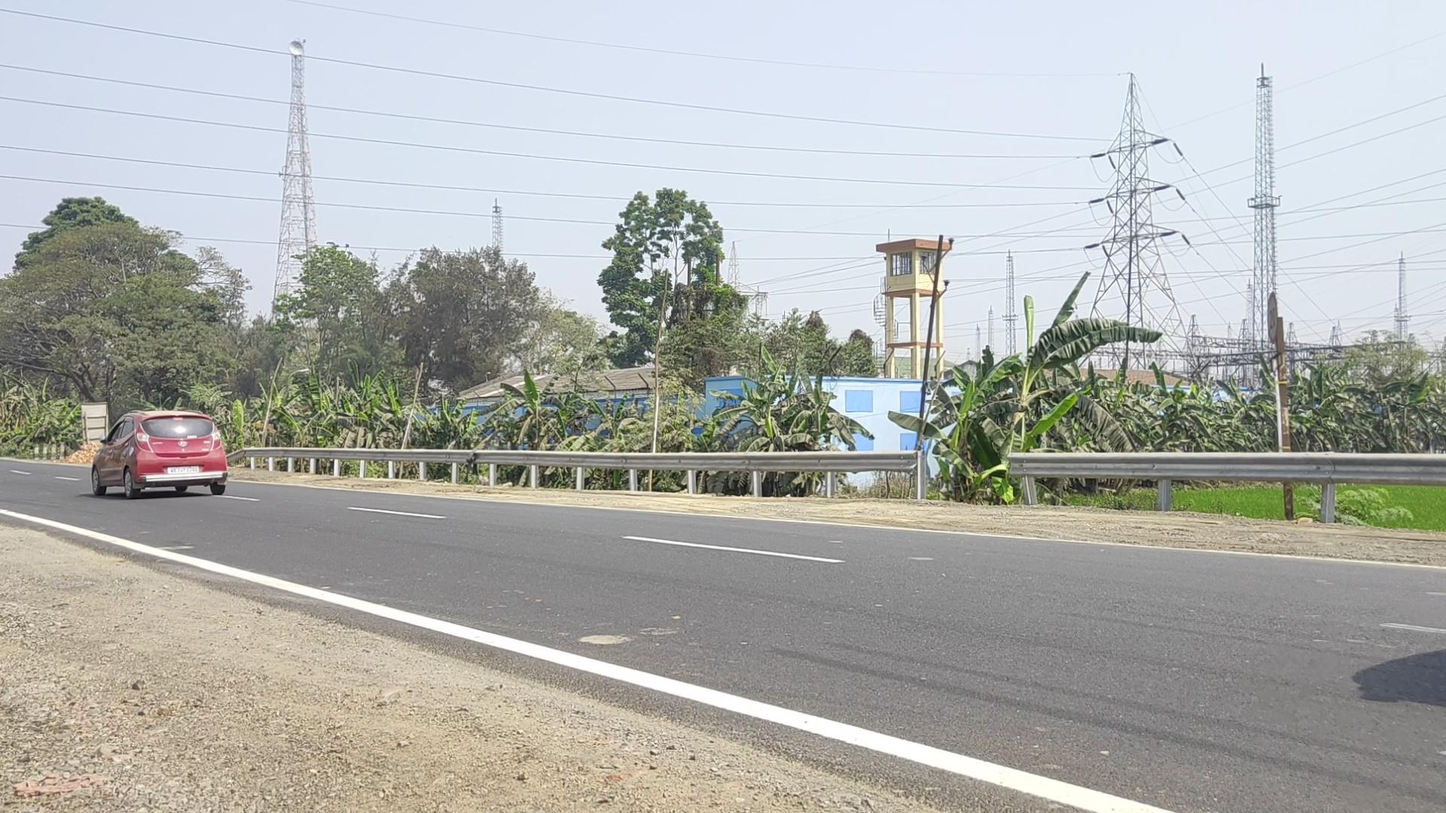car: (90, 410, 228, 500)
